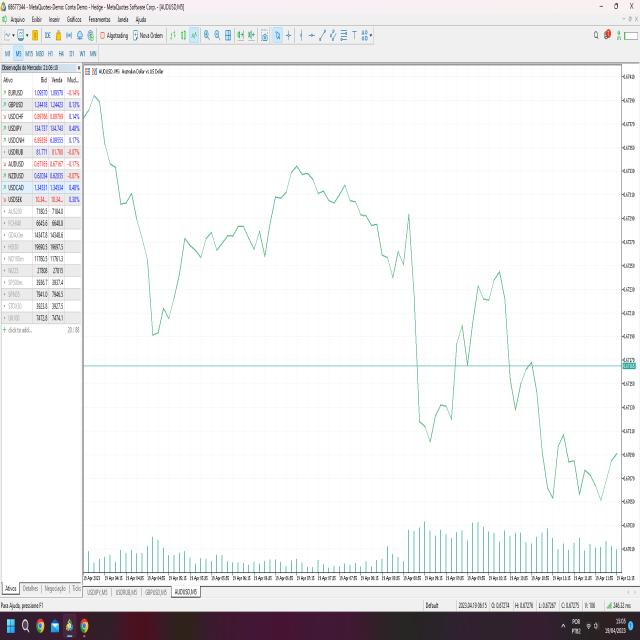oco: (446, 240, 553, 432)
